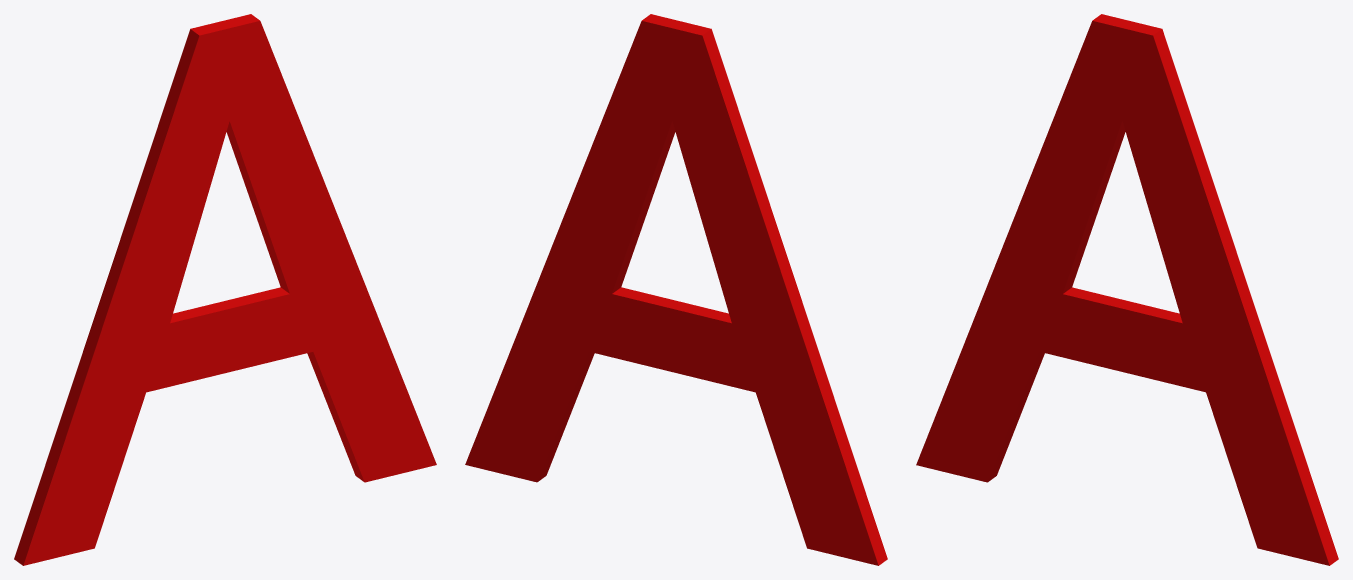
File: original-13.obj
3 renders of one model, left to right at view 1: azimuth 30°, elevation 25°; view 2: azimuth 150°, elevation 25°; view 3: azimuth 330°, elevation 25°, orthographic.
Visible parts, largest first — view 1: mesh20/mesh20-geometry#mesh20-geometry; view 2: mesh20/mesh20-geometry#mesh20-geometry; view 3: mesh20/mesh20-geometry#mesh20-geometry.
Part boxes in pixels (x1,y1,x2,y2): mesh20/mesh20-geometry#mesh20-geometry: (14,14,436,565); mesh20/mesh20-geometry#mesh20-geometry: (465,14,887,565); mesh20/mesh20-geometry#mesh20-geometry: (916,14,1338,565).
Size of the model in its own units: 0.0244 by 0.0274 by 0.000949.
